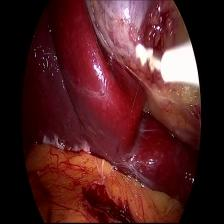Hook: (149, 38, 207, 92)
